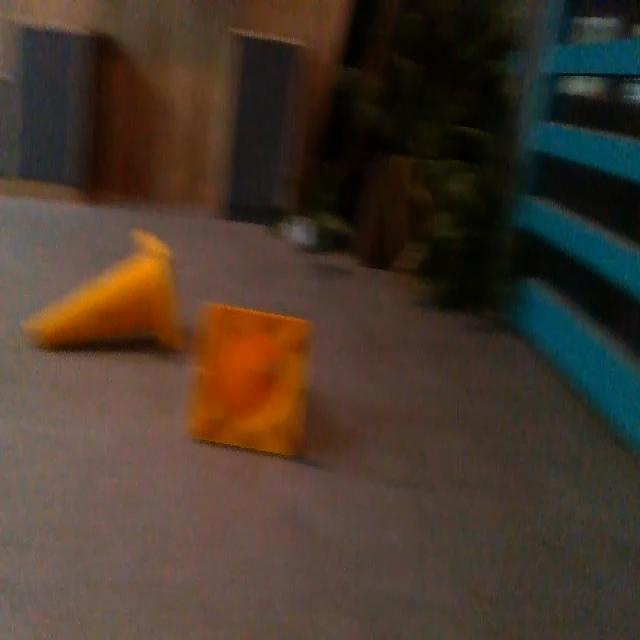cone: (19, 228, 190, 362), (196, 300, 314, 460)
